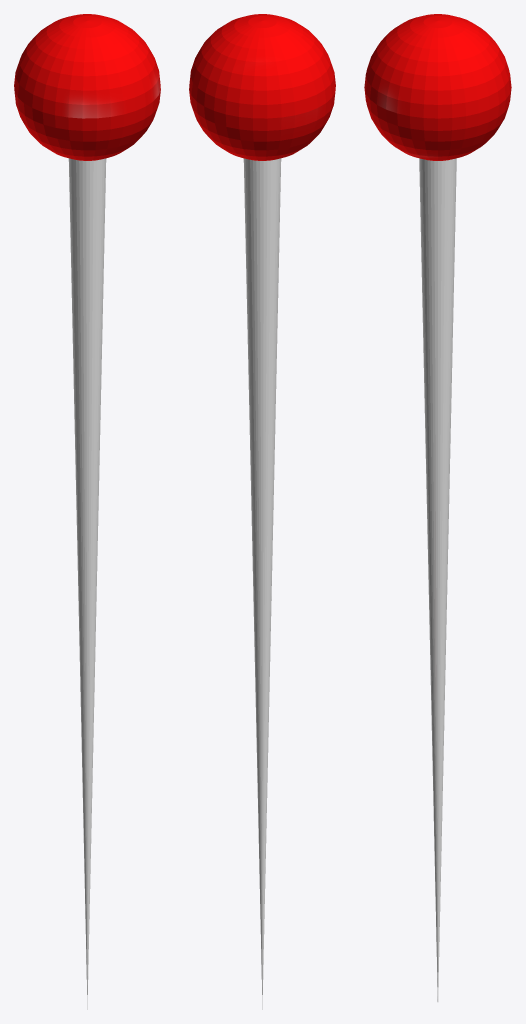
File: pin.fbx
The picture shows the model from 3 angles, left to right: view 1: azimuth 30°, elevation 25°; view 2: azimuth 150°, elevation 25°; view 3: azimuth 270°, elevation 25°; orthographic projection.
Visible parts, largest first — view 1: Cone; view 2: Cone; view 3: Cone.
Part boxes in pixels (<box>): Cone: <box>14,14,160,1009</box>; Cone: <box>189,14,335,1009</box>; Cone: <box>364,14,511,1001</box>.
Bounding box in the file's own units: 700 × 5191 × 700.
